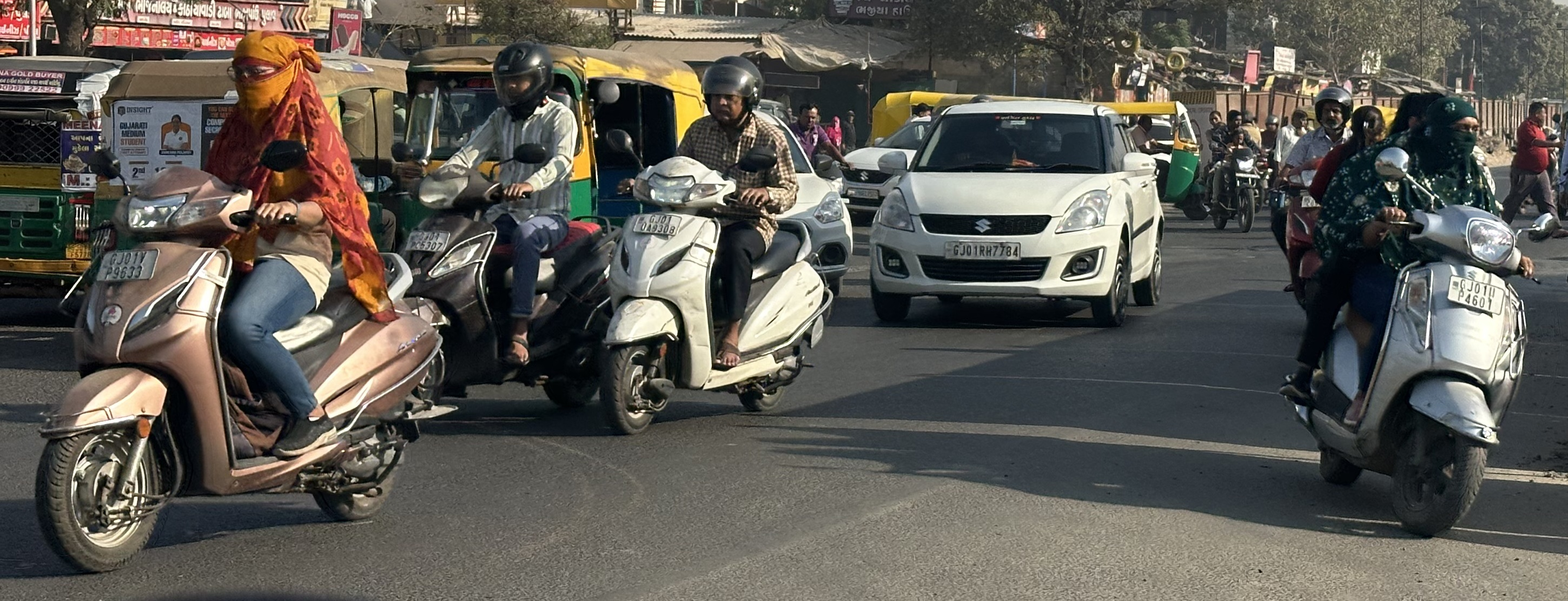BikeWithRider: (25, 22, 458, 580), (1267, 77, 1549, 546), (583, 47, 848, 441), (389, 33, 634, 435), (1194, 102, 1269, 237)
Helmet: (480, 35, 567, 119), (692, 49, 773, 130)
NoHelmet: (215, 23, 331, 116), (1418, 90, 1487, 165), (1384, 87, 1444, 146), (1341, 100, 1390, 150)
